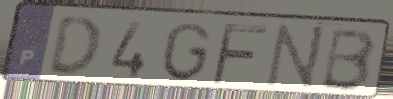4: (108, 18, 150, 81)
B: (317, 27, 379, 94)
D: (44, 15, 104, 81)
F: (208, 21, 272, 88)
G: (159, 21, 213, 84)
N: (262, 23, 329, 94)
